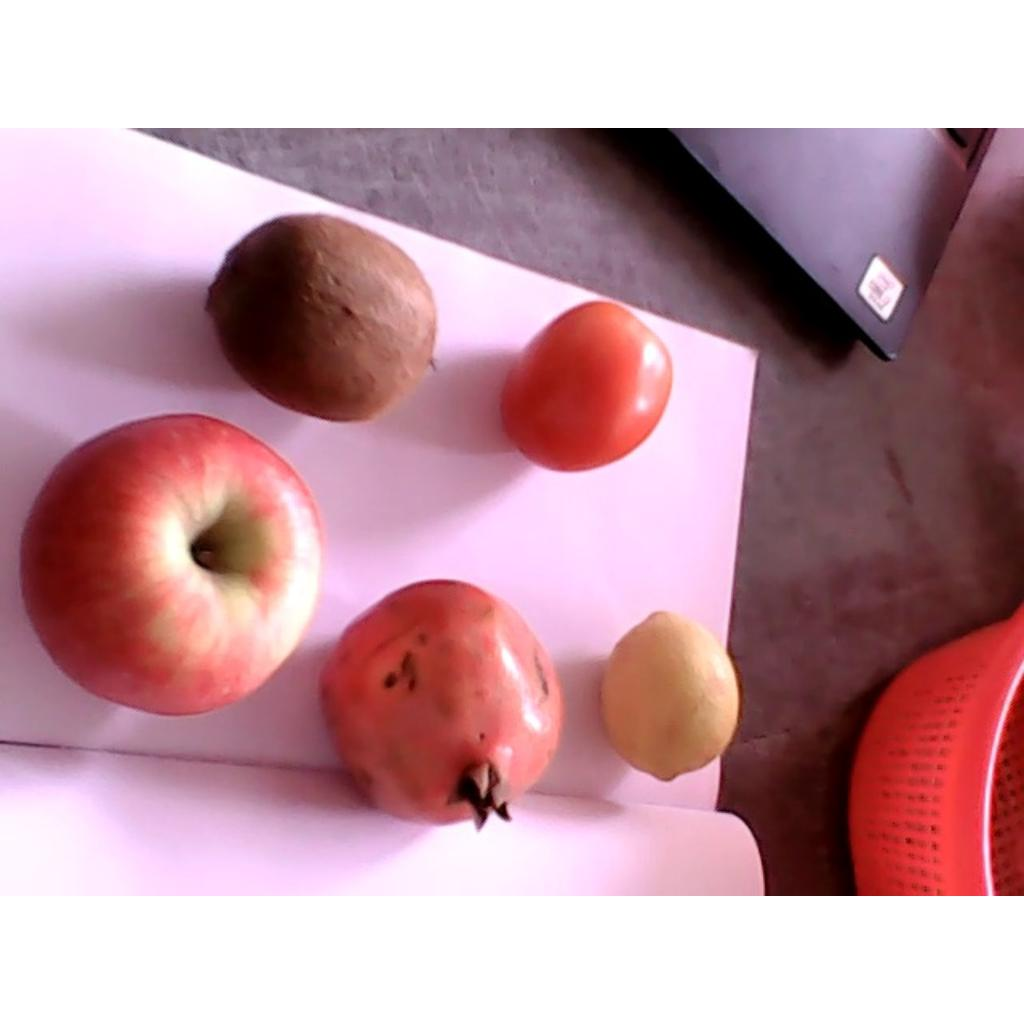apple: (18, 413, 325, 717)
kiwi: (204, 213, 439, 421)
lemon: (600, 611, 739, 779)
pomegranate: (317, 579, 565, 833)
tomato: (502, 300, 672, 470)
